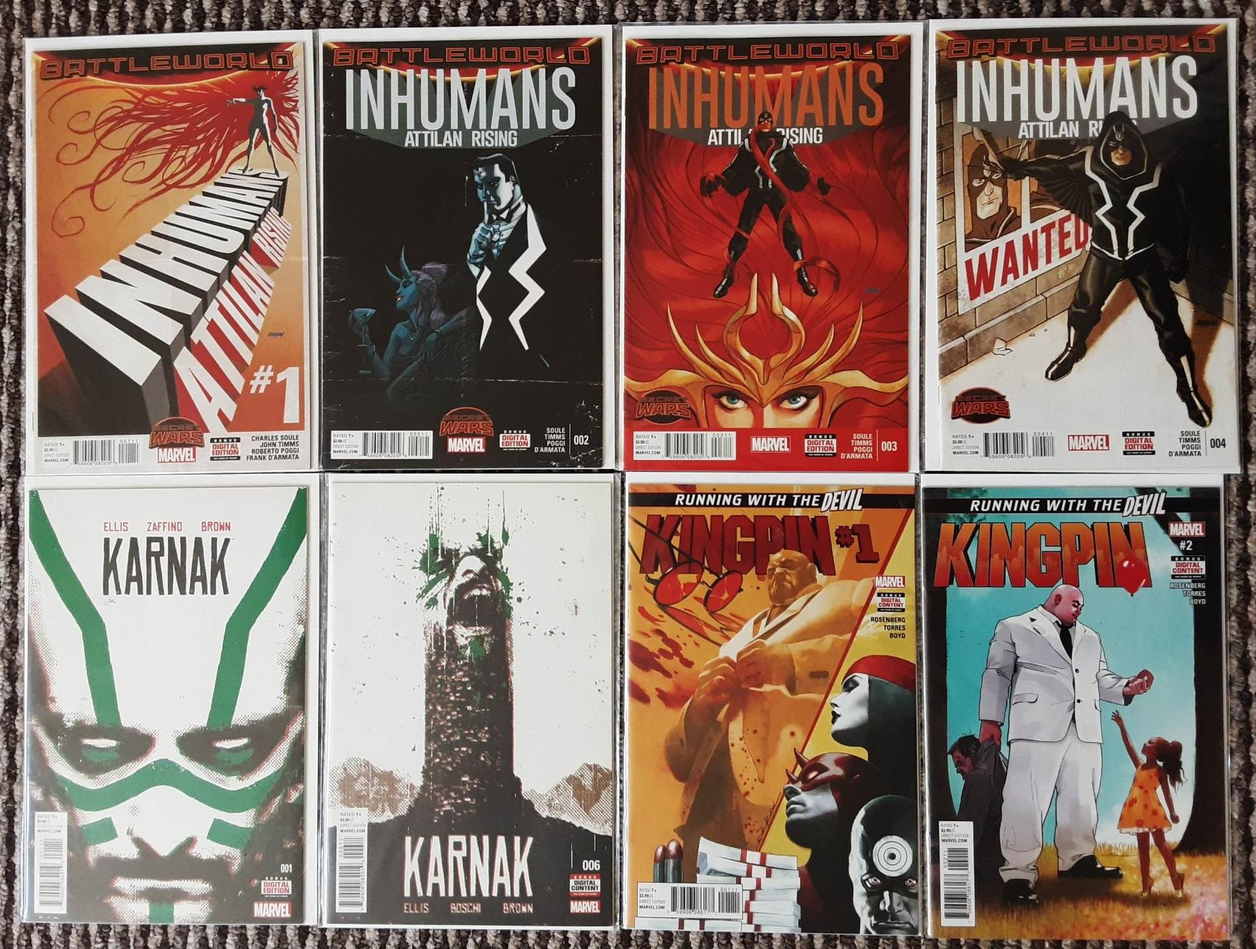comic: (920, 473, 1230, 944), (925, 18, 1238, 471), (620, 473, 924, 935), (17, 472, 323, 925), (322, 472, 619, 929), (620, 22, 921, 471), (319, 25, 615, 469), (25, 32, 317, 473)
